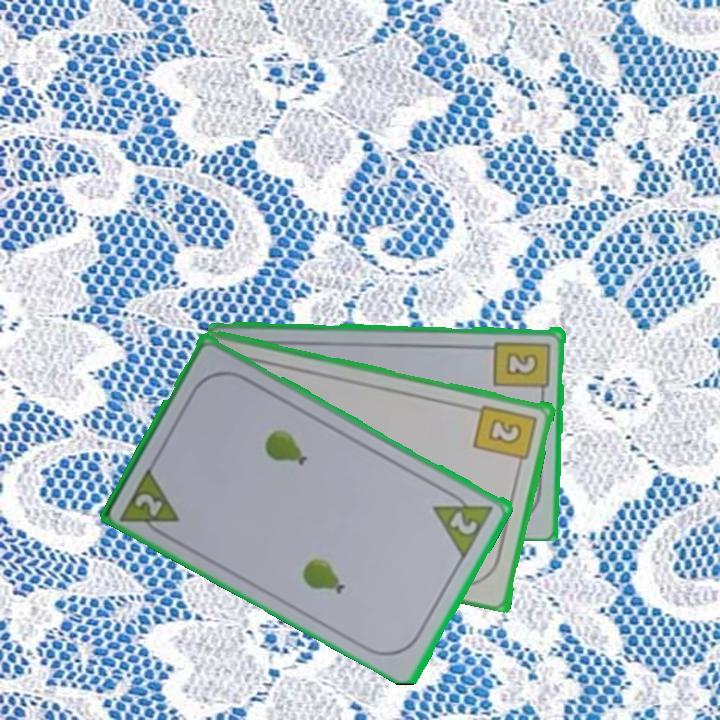2b: (471, 401, 540, 471), (492, 337, 553, 400)
2p: (117, 462, 183, 542), (429, 484, 497, 560)
